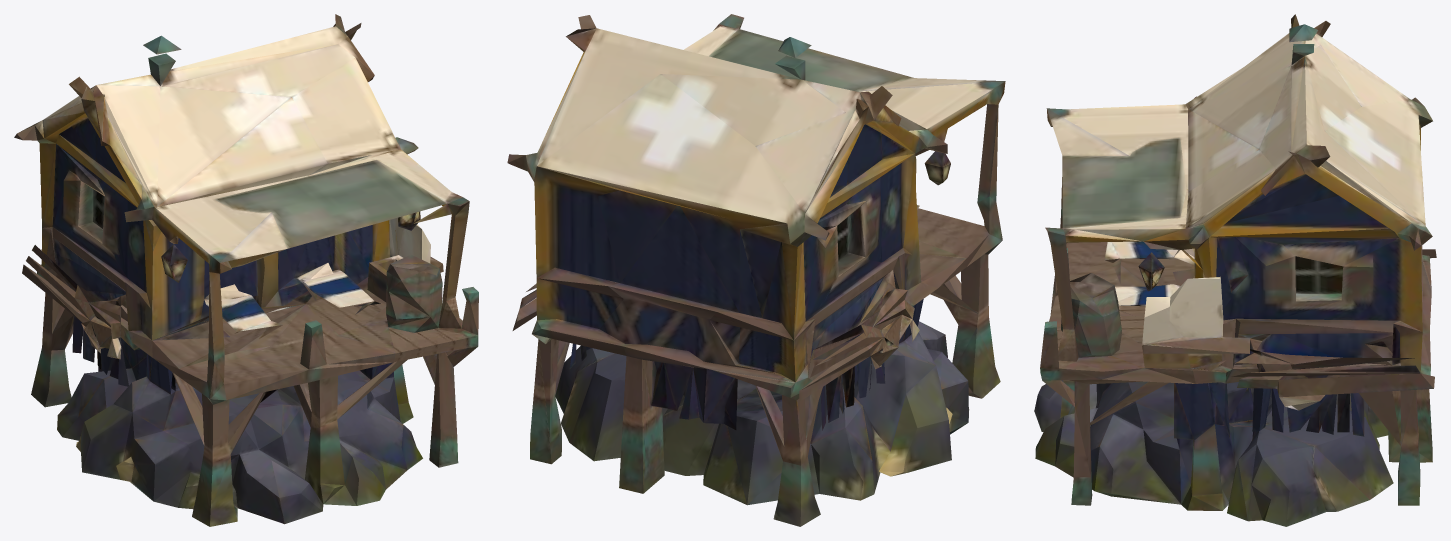
The model's file is infirmary.glb.
The picture shows the model from 3 angles, left to right: view 1: azimuth 30°, elevation 25°; view 2: azimuth 150°, elevation 25°; view 3: azimuth 270°, elevation 25°; orthographic projection. The views are drawn at different scales.
Parts seen in each view (by area): view 1: infirmary; view 2: infirmary; view 3: infirmary.
Boxes of the visible parts, <box> form: infirmary: <box>14,14,478,526</box>; infirmary: <box>507,14,1005,526</box>; infirmary: <box>1034,14,1436,526</box>.
Size of the model in its own units: 1.73 by 1.9 by 1.76.
Materials: 1 (1 with a texture image).
